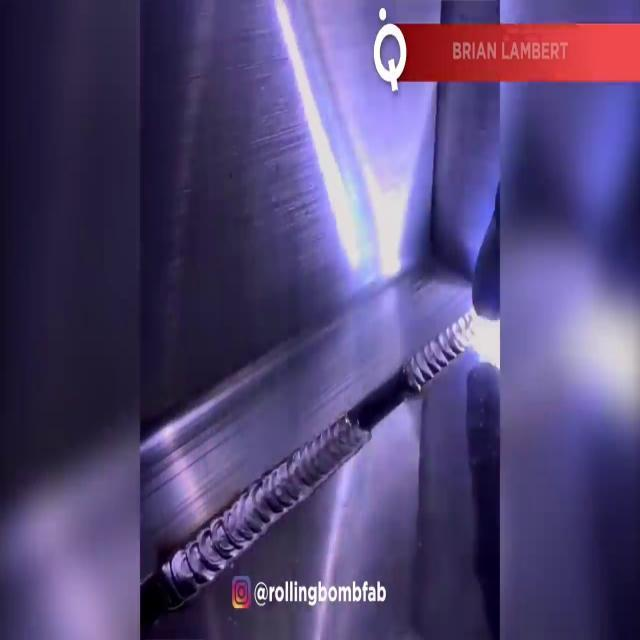Good Weld: (177, 440, 349, 572), (406, 322, 476, 378)
